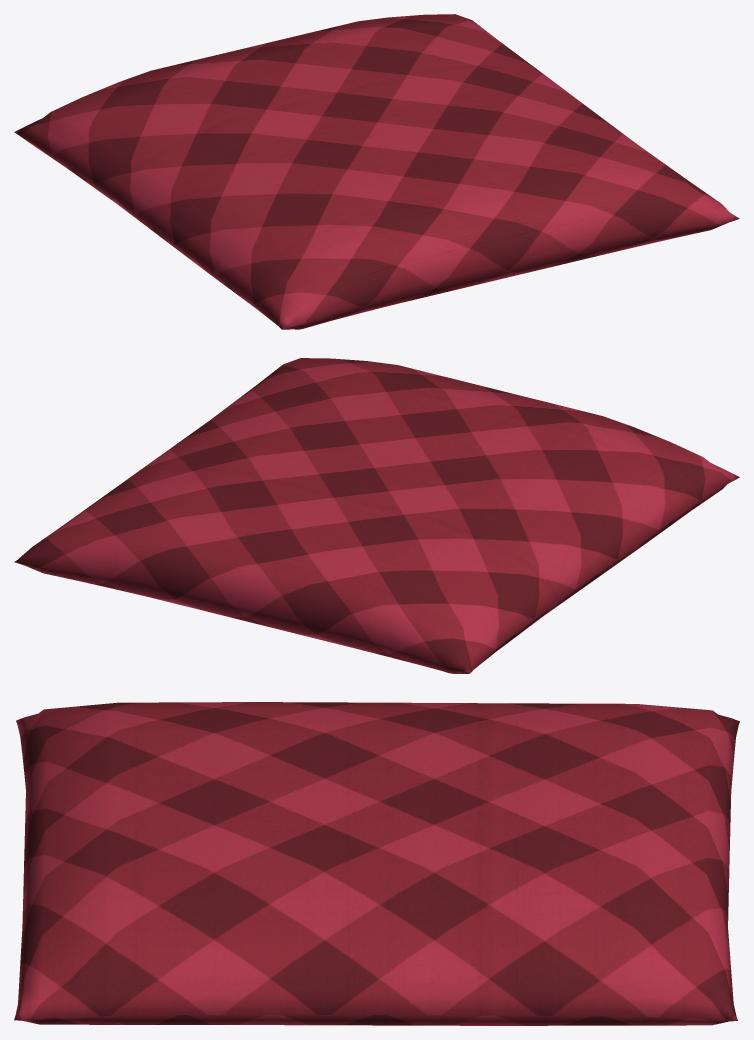
The model's file is Zabuton05.fbx.
3 renders of one model, top to bottom at view 1: azimuth 30°, elevation 25°; view 2: azimuth 150°, elevation 25°; view 3: azimuth 270°, elevation 25°, orthographic. The views are drawn at different scales.
Parts seen in each view (by area): view 1: Zabuton05; view 2: Zabuton05; view 3: Zabuton05.
Boxes of the visible parts, left/top/right/bottom form: Zabuton05: left=14, top=14, right=739, bottom=329; Zabuton05: left=14, top=358, right=739, bottom=673; Zabuton05: left=14, top=702, right=739, bottom=1025.
Bounding box in the file's own units: 48.92 × 7.36 × 49.99.
